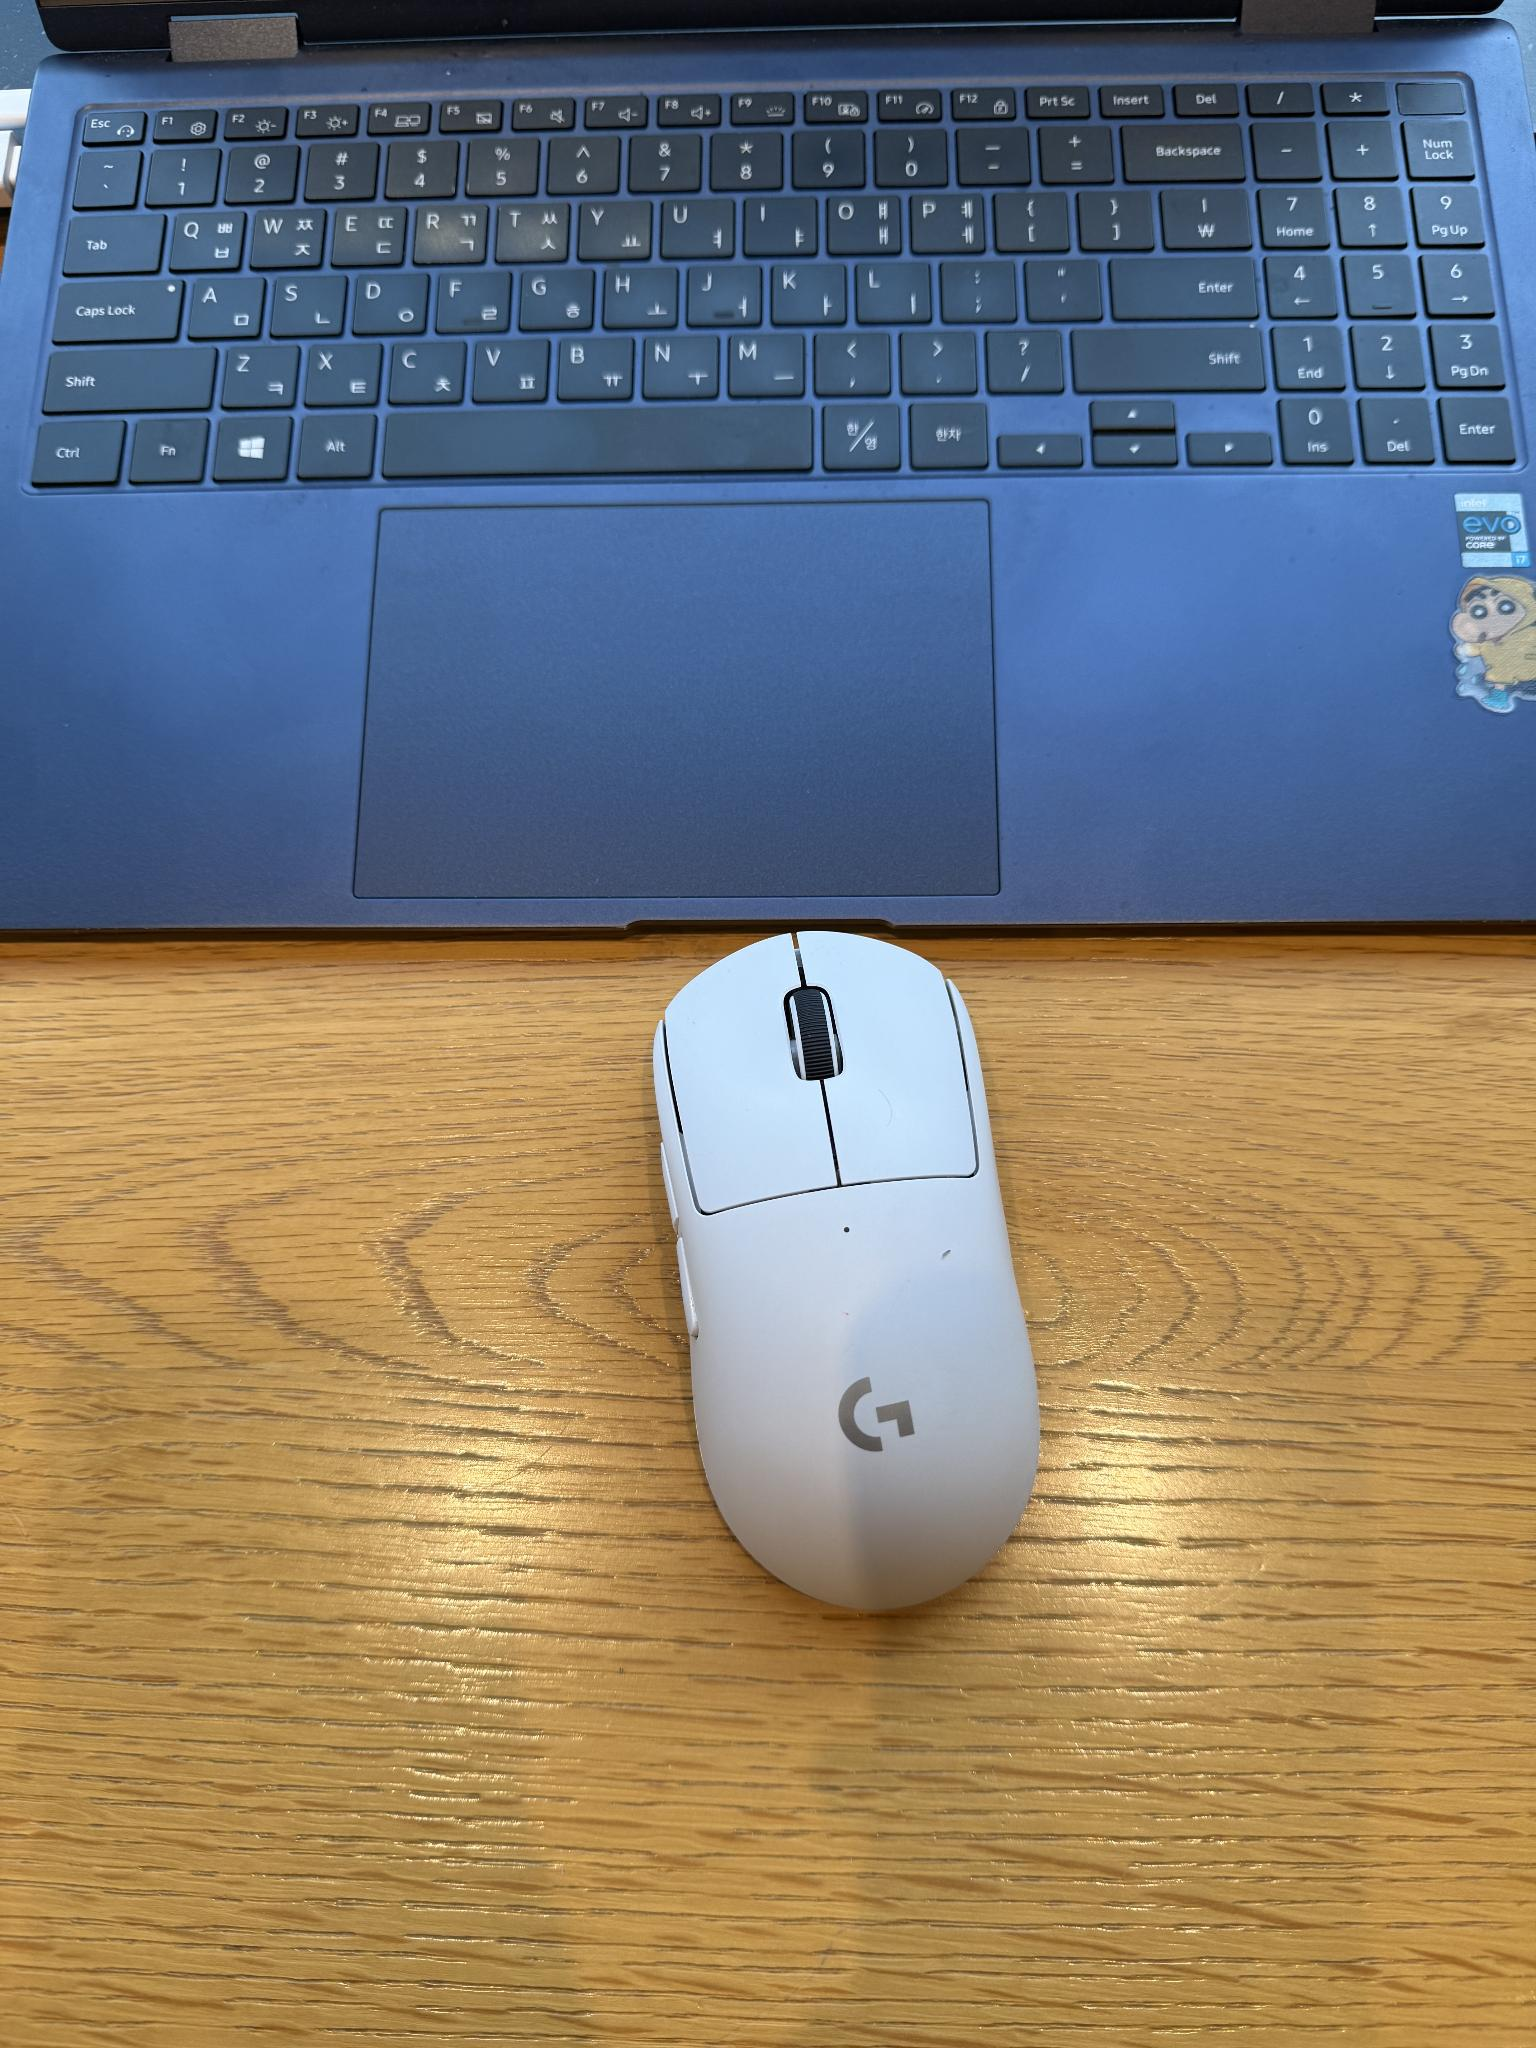front: (649, 935, 1050, 1621)
